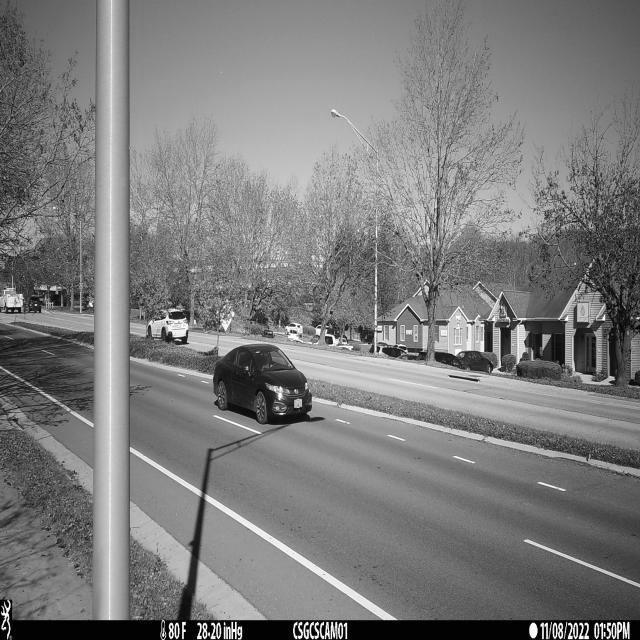Sedan: (212, 342, 314, 425)
